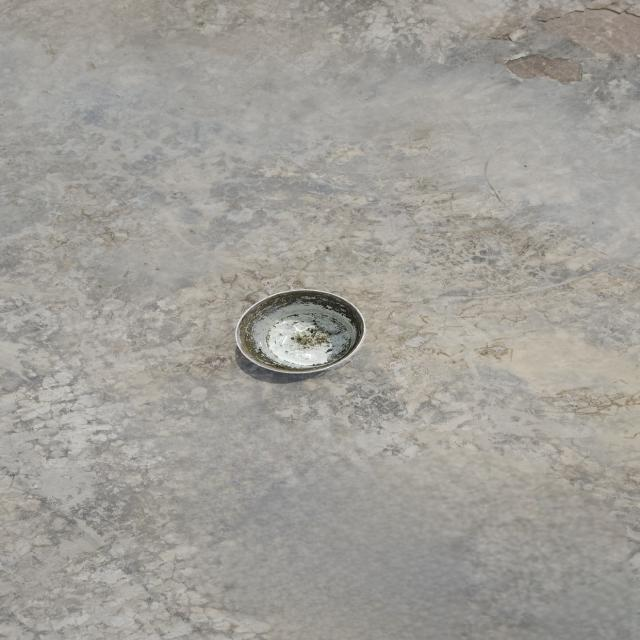Breeding Place: (216, 283, 394, 387)
